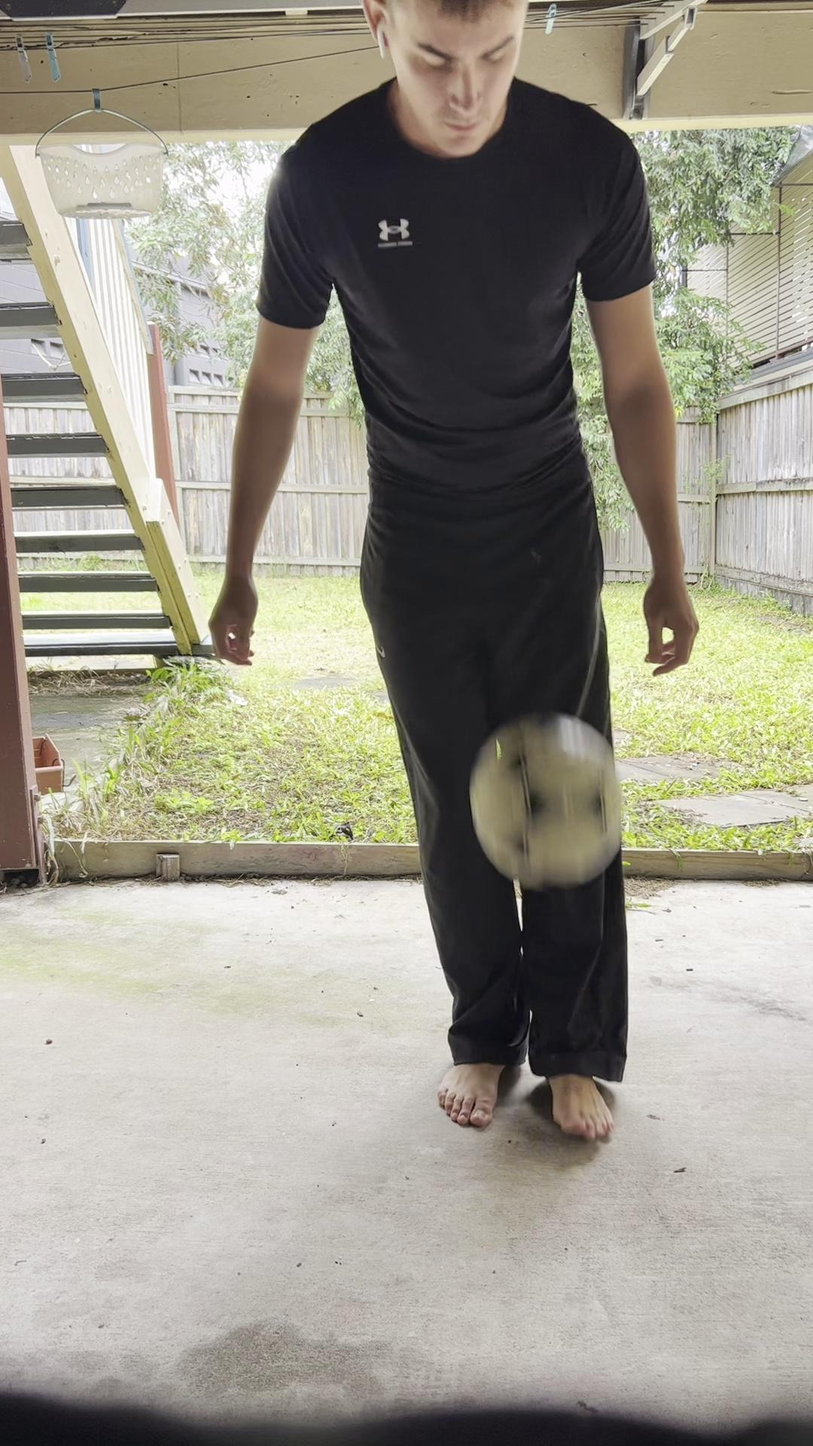ball: (472, 713, 629, 889)
foot: (433, 1059, 506, 1132), (545, 1074, 609, 1141)
person: (208, 0, 704, 1148)
